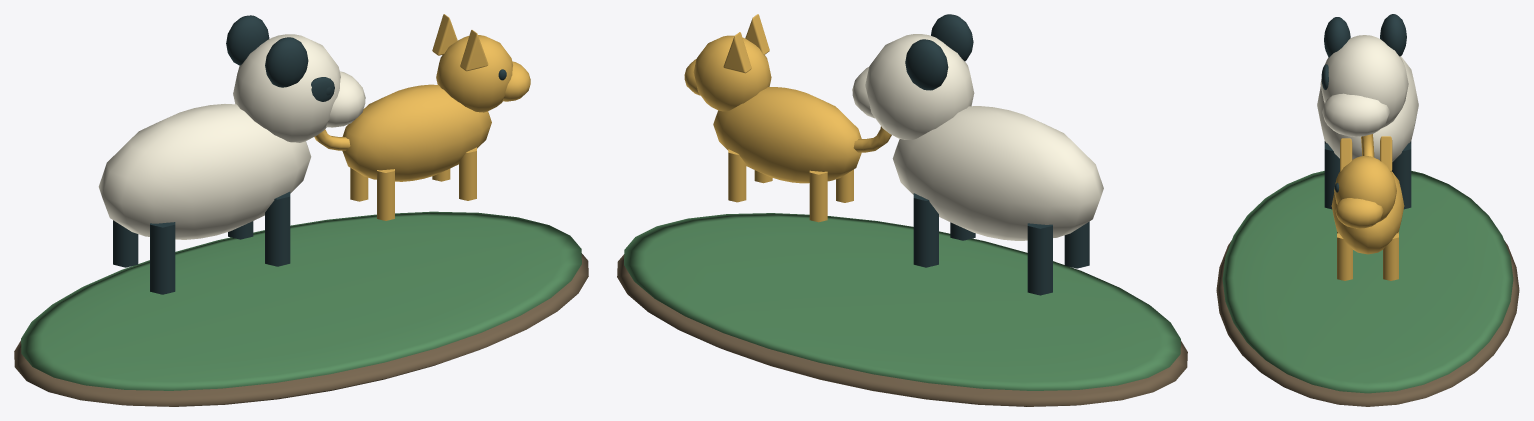
The model's file is bear-cat.glb.
3 renders of one model, left to right at view 1: azimuth 30°, elevation 25°; view 2: azimuth 150°, elevation 25°; view 3: azimuth 270°, elevation 25°, orthographic. The views are drawn at different scales.
Parts seen in each view (by area): view 1: bear-cat_surface_01, bear-cat_surface_02, bear-cat_surface_04, bear-cat_surface_00, bear-cat_surface_03; view 2: bear-cat_surface_01, bear-cat_surface_02, bear-cat_surface_04, bear-cat_surface_00, bear-cat_surface_03; view 3: bear-cat_surface_01, bear-cat_surface_02, bear-cat_surface_04, bear-cat_surface_00, bear-cat_surface_03.
Boxes of the visible parts, x1,y1,x2,y2 form: bear-cat_surface_01: (21,211,581,390); bear-cat_surface_02: (98,34,365,239); bear-cat_surface_04: (314,14,530,220); bear-cat_surface_00: (14,253,588,406); bear-cat_surface_03: (113,15,506,294); bear-cat_surface_01: (624,213,1180,390); bear-cat_surface_02: (852,34,1103,240); bear-cat_surface_04: (684,14,891,222); bear-cat_surface_00: (617,254,1187,406); bear-cat_surface_03: (905,14,1089,295); bear-cat_surface_01: (1222,171,1513,393); bear-cat_surface_02: (1317,35,1418,161); bear-cat_surface_04: (1331,134,1404,280); bear-cat_surface_00: (1216,240,1519,406); bear-cat_surface_03: (1321,14,1411,209).
Size of the model in its own units: 4.56 by 2.48 by 2.5.
